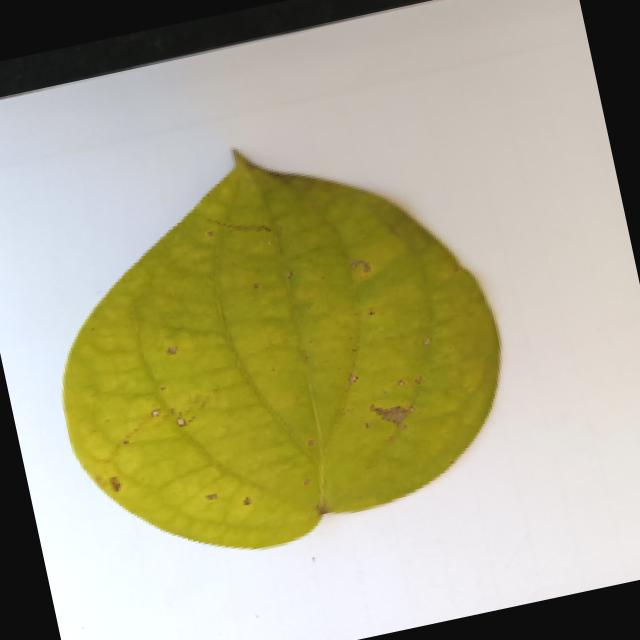slow-decline: (2, 96, 557, 597)
